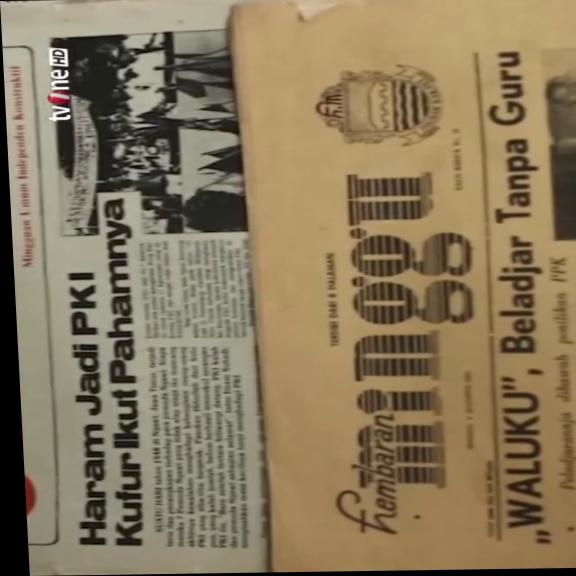Kertas: (5, 0, 576, 575)
